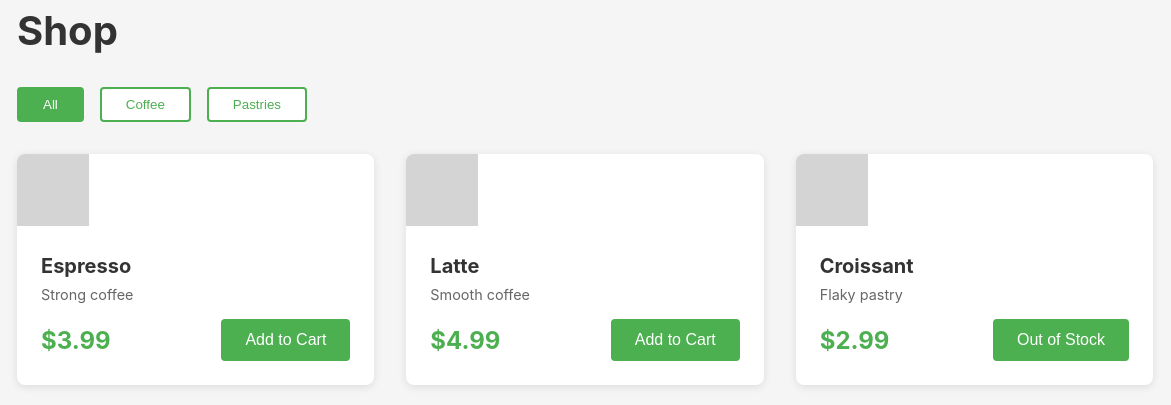
it: Shop Page › filters products by category
Expected: the heading "Espresso" is shown, [41, 254, 131, 278]
Note: Click Coffee category
Click the button "Coffee". click: {"x": 145, "y": 104}
box: [100, 87, 191, 122]
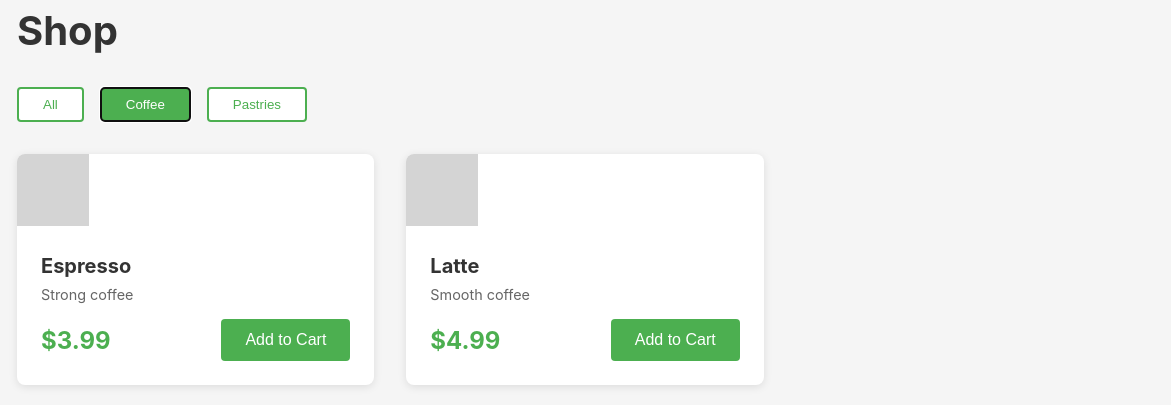
Expected: the heading "Espresso" is shown, [41, 254, 131, 278]
Expected: the heading "Croissant" is gone
